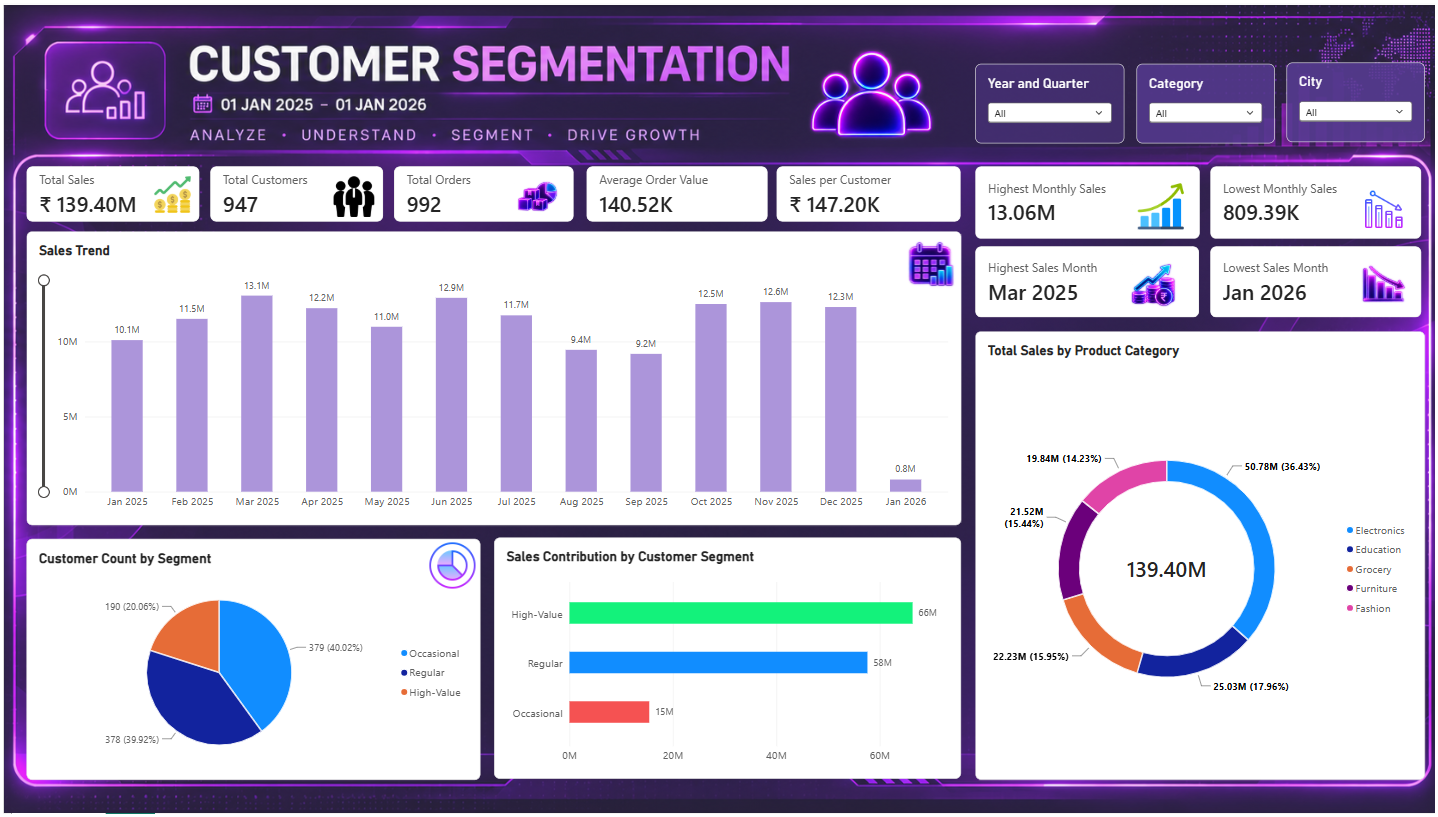

The page's visual inventory and layout, read from the dashboard file:
{"tool":"powerbi","page":{"name":"Page 1","canvas":[1920,1080],"ordinal":0},"visuals":[{"type":"cardVisual","fields":{"Data":["cleaned_data.Total Sales"]},"box":[30.8,215.4,231.6,74.2],"z":0,"group":"g2"},{"type":"cardVisual","fields":{"Data":["cleaned_data.Total Customers"]},"box":[276.9,215.4,231.6,74.2],"z":1000,"group":"g2"},{"type":"cardVisual","fields":{"Data":["cleaned_data.Total Orders"]},"box":[521.2,215.4,240.7,74.2],"z":2000,"group":"g2"},{"type":"cardVisual","fields":{"Data":["cleaned_data.Average Order Value"]},"box":[778.2,215.4,242.5,74.2],"z":3000,"group":"g2"},{"type":"cardVisual","fields":{"Data":["cleaned_data.Sales per Customer"]},"box":[1033.4,215.4,246.1,74.2],"z":4000,"group":"g2"},{"type":"pieChart","title":"Customer Count by Segment","fields":{"Category":["Customer_Summary.Customer_Segment"],"Y":["CountNonNull(Customer_Summary.Customer_ID)"]},"box":[30.8,711.2,606.2,322.1],"z":5000,"group":"g1"},{"type":"clusteredBarChart","title":"Sales Contribution by Customer Segment","fields":{"Category":["Customer_Summary.Customer_Segment"],"Y":["Customer_Summary.Filtered Sales"]},"box":[655.1,711.2,624.3,322.1],"z":5000,"group":"g2"},{"type":"listSlicer","fields":{"Values":["cleaned_data.Order_Date.Variation.Date Hierarchy.Year","cleaned_data.Order_Date.Variation.Date Hierarchy.Quarter","cleaned_data.Order_Date.Variation.Date Hierarchy.Month","cleaned_data.Order_Date.Variation.Date Hierarchy.Day"]},"box":[1297.5,76.9,198.8,106.4],"z":6000,"group":"g2"},{"type":"listSlicer","fields":{"Values":["cleaned_data.City"]},"box":[1713.8,76,184.6,106.8],"z":7000,"group":"g2"},{"type":"listSlicer","fields":{"Values":["cleaned_data.Category"]},"box":[1513.8,76.9,184.9,106.4],"z":8000,"group":"g2"},{"type":"donutChart","title":"Total Sales by Product Category","fields":{"Category":["cleaned_data.Category"],"Y":["Customer_Summary.Filtered Sales"]},"box":[1297.6,434.3,600.8,599],"z":9000,"group":"g2"},{"type":"cardVisual","fields":{"Data":["cleaned_data.Highest Monthly Sales"]},"box":[1297.6,215.4,300.4,97.7],"z":10000,"group":"g2"},{"type":"cardVisual","fields":{"Data":["cleaned_data.Lowest Monthly Sales"]},"box":[1612.4,215.4,282.3,97.7],"z":11000,"group":"g2"},{"type":"clusteredColumnChart","title":"Sales Trend","fields":{"Category":["cleaned_data.Month_Year"],"Y":["Customer_Summary.Filtered Sales"]},"box":[30.8,302.2,1248.7,392.7],"z":12000,"group":"g2"},{"type":"cardVisual","fields":{"Data":["cleaned_data.Highest Sales Month"]},"box":[1297.6,322.1,299.4,95.7],"z":13000,"group":"g2"},{"type":"cardVisual","fields":{"Data":["cleaned_data.Lowest Sales Month"]},"box":[1612.4,322.1,282.3,95.9],"z":14000,"group":"g2"},{"type":"image","box":[190.1,228,72.4,48.9],"z":15000,"group":"g2"},{"type":"image","box":[561,694.9,76,105],"z":15005,"group":"g1"},{"type":"image","box":[428.9,228,79.6,54.3],"z":16000,"group":"g2"},{"type":"group","id":"g1","title":"Group 2","box":[30.8,694.9,606.2,338.4],"z":17000,"group":"g2"},{"type":"image","box":[1791.6,240.7,103.2,61.5],"z":18000,"group":"g2"},{"type":"image","box":[1514.7,222.6,61.5,90.5],"z":19000,"group":"g2"},{"type":"image","box":[1498.4,327.6,77.8,86.9],"z":20000,"group":"g2"},{"type":"image","box":[1196.2,302.2,83.2,97.7],"z":21000,"group":"g2"},{"type":"image","box":[682.3,222.6,61.5,63.3],"z":22000,"group":"g2"},{"type":"image","box":[1797,340.2,92.3,63.3],"z":23000,"group":"g2"},{"type":"image","box":[1033.4,32.6,249.7,171.9],"z":24000,"group":"g2"},{"type":"group","id":"g2","title":"Group 1","box":[30.8,32.6,1867.6,1000.7],"z":24001}]}

Visuals, with their boxes in screenshot pixels (x1, y1, x2, y2), scaled from the page's 1920x1080 canvas onto the 1438x817 screenshot:
cardVisual - cleaned_data.Total Sales: (23, 163, 197, 219)
cardVisual - cleaned_data.Total Customers: (207, 163, 381, 219)
cardVisual - cleaned_data.Total Orders: (390, 163, 571, 219)
cardVisual - cleaned_data.Average Order Value: (583, 163, 764, 219)
cardVisual - cleaned_data.Sales per Customer: (774, 163, 958, 219)
"Customer Count by Segment" pieChart: (23, 538, 477, 782)
"Sales Contribution by Customer Segment" clusteredBarChart: (491, 538, 958, 782)
listSlicer - cleaned_data.Order_Date.Variation.Date Hierarchy.Year x cleaned_data.Order_Date.Variation.Date Hierarchy.Quarter: (972, 58, 1121, 139)
listSlicer - cleaned_data.City: (1284, 57, 1422, 138)
listSlicer - cleaned_data.Category: (1134, 58, 1272, 139)
"Total Sales by Product Category" donutChart: (972, 329, 1422, 782)
cardVisual - cleaned_data.Highest Monthly Sales: (972, 163, 1197, 237)
cardVisual - cleaned_data.Lowest Monthly Sales: (1208, 163, 1419, 237)
"Sales Trend" clusteredColumnChart: (23, 229, 958, 526)
cardVisual - cleaned_data.Highest Sales Month: (972, 244, 1196, 316)
cardVisual - cleaned_data.Lowest Sales Month: (1208, 244, 1419, 316)
image: (142, 172, 197, 209)
image: (420, 526, 477, 605)
image: (321, 172, 381, 214)
"Group 2" group: (23, 526, 477, 782)
image: (1342, 182, 1419, 229)
image: (1134, 168, 1181, 237)
image: (1122, 248, 1181, 314)
image: (896, 229, 958, 303)
image: (511, 168, 557, 216)
image: (1346, 257, 1415, 305)
image: (774, 25, 961, 155)
"Group 1" group: (23, 25, 1422, 782)
